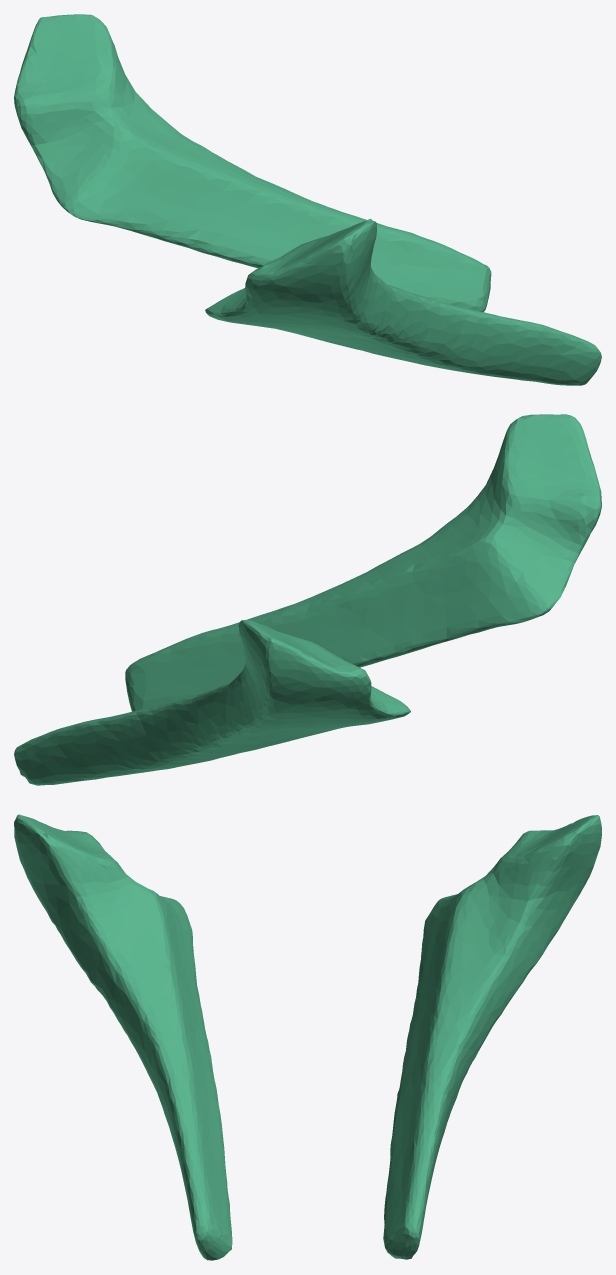
The picture shows the model from 3 angles, top to bottom: view 1: azimuth 30°, elevation 25°; view 2: azimuth 150°, elevation 25°; view 3: azimuth 270°, elevation 25°; orthographic projection. The views are drawn at different scales.
Visible parts, largest first — view 1: 1021.obj; view 2: 1021.obj; view 3: 1021.obj.
Part boxes in pixels (x1,y1,x2,y2): 1021.obj: (14,14,601,385); 1021.obj: (14,414,601,785); 1021.obj: (14,814,601,1260).
Bounding box in the file's own units: 3603 × 2529 × 4640.
